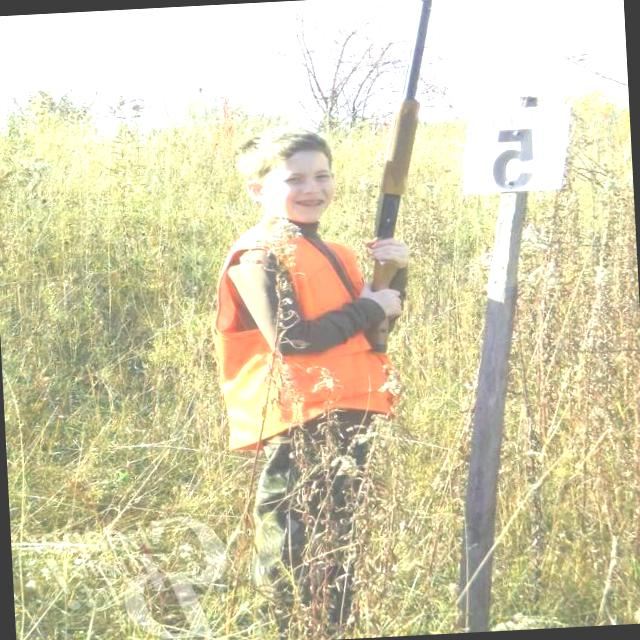vest: (216, 224, 375, 443)
